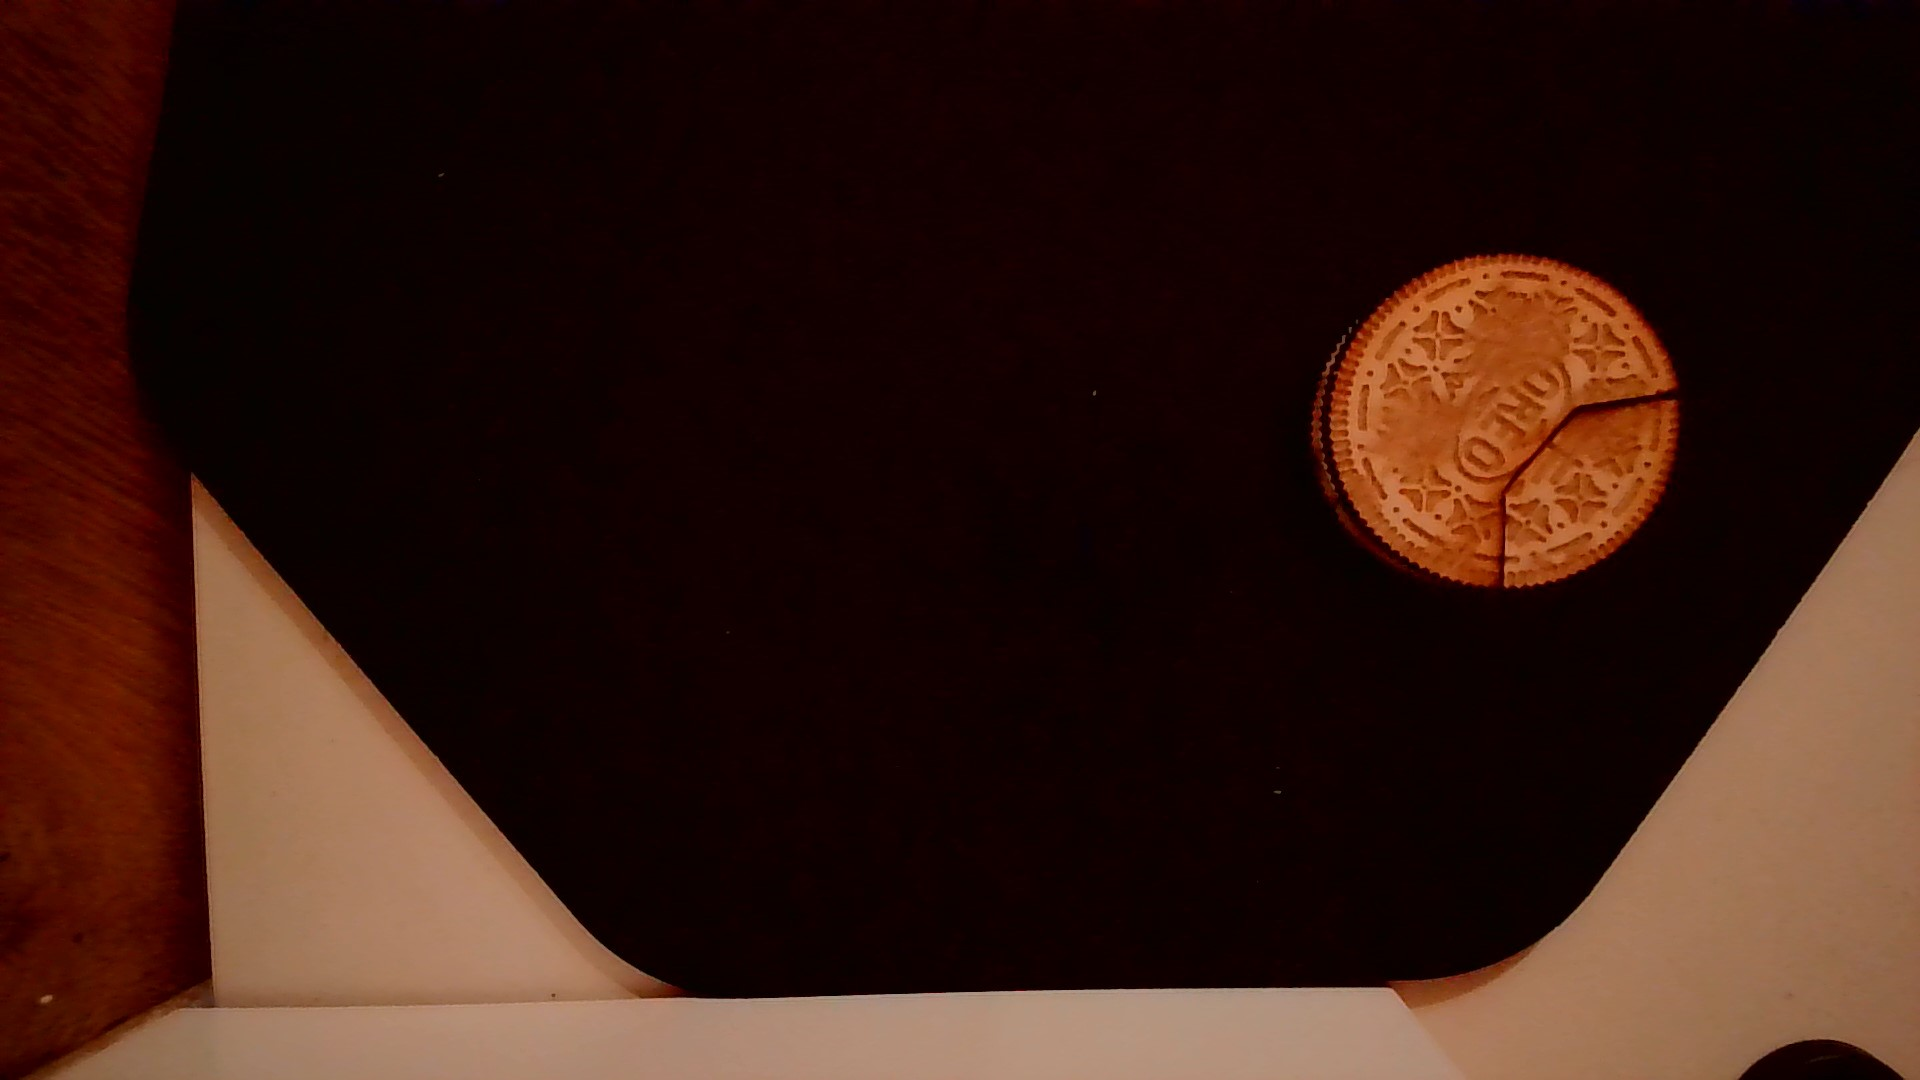Effacé: (1476, 295, 1571, 378), (1378, 400, 1455, 477), (1571, 415, 1656, 473), (1423, 524, 1501, 579)
Fissure: (1491, 378, 1676, 595)
Oréo: (1308, 247, 1685, 599)
